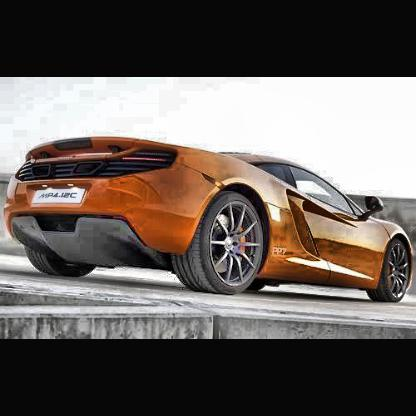McLaren MP4-12C Coupe 2012: (4, 135, 416, 303)
